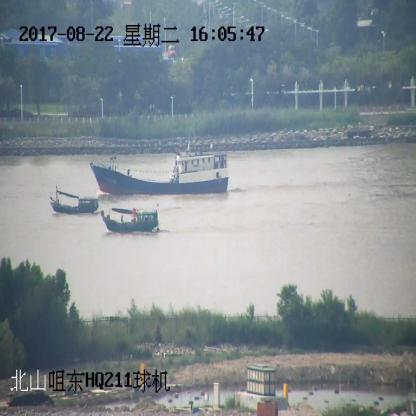Fishing Boat: (88, 143, 230, 197), (100, 206, 160, 232), (50, 185, 99, 215)
